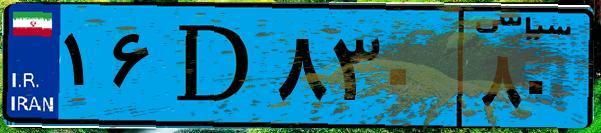0: (385, 28, 445, 110), (525, 38, 570, 115)
1: (57, 26, 110, 100)
3: (330, 28, 385, 110)
6: (110, 28, 158, 98)
8: (270, 28, 330, 110), (475, 38, 525, 113)
D: (158, 12, 270, 120)
